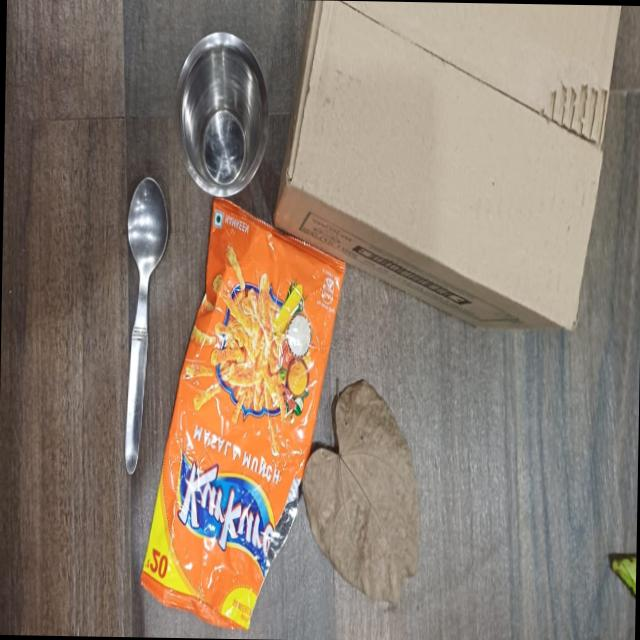CardBoard-Bio: (269, 0, 631, 372)
Leaf-Bio: (296, 379, 418, 614)
Plastic-NonBio: (140, 196, 345, 640)
Steel-NonBio: (171, 13, 278, 211), (111, 169, 168, 494)
